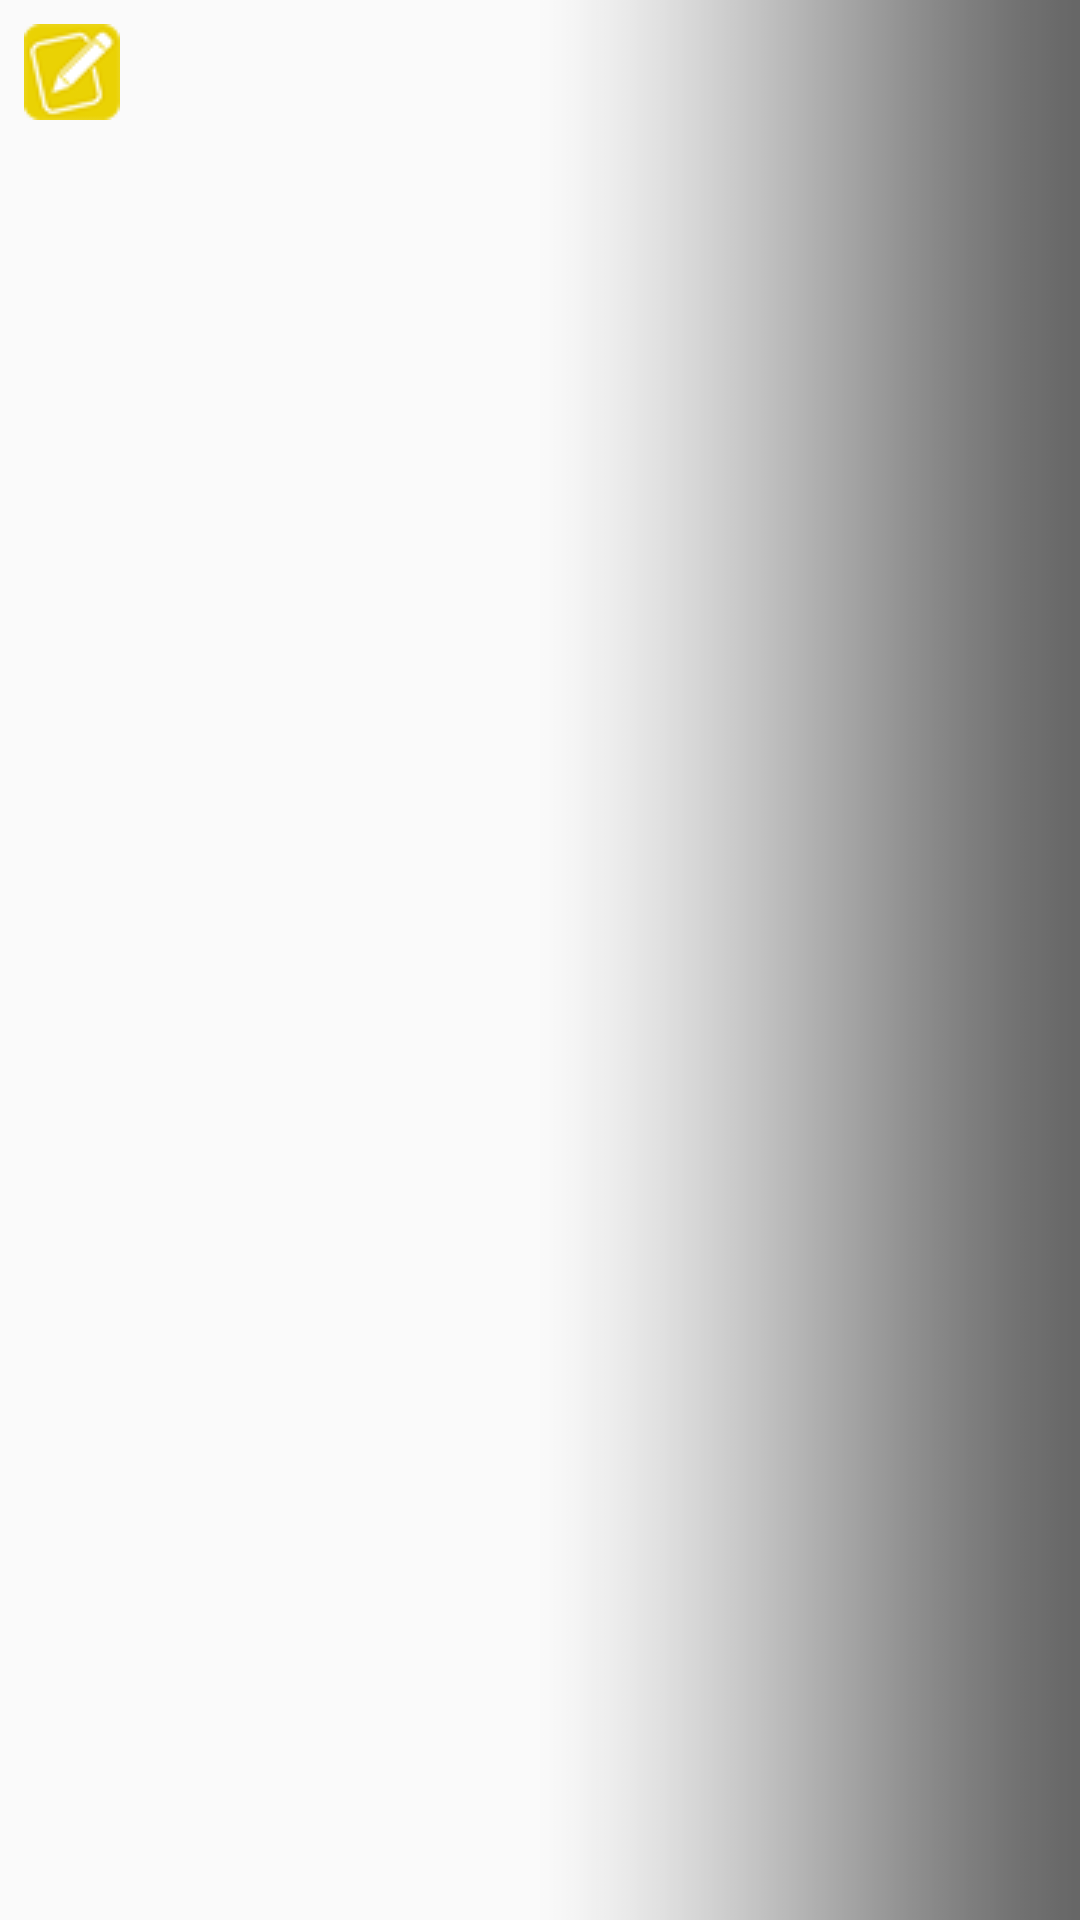

Screen size 1080 × 1920. Icon name, then its center in pixels as [x,y]:
editar: [72,72]
